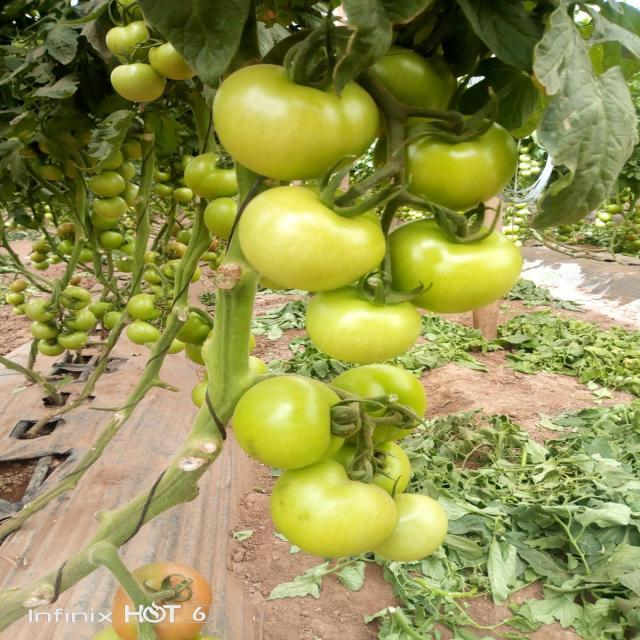Unripe Tomato: (221, 62, 379, 166), (242, 186, 392, 292), (254, 470, 406, 566), (242, 376, 358, 486), (402, 228, 546, 314), (394, 120, 528, 208), (344, 358, 446, 434), (310, 300, 434, 350), (350, 450, 434, 480)
